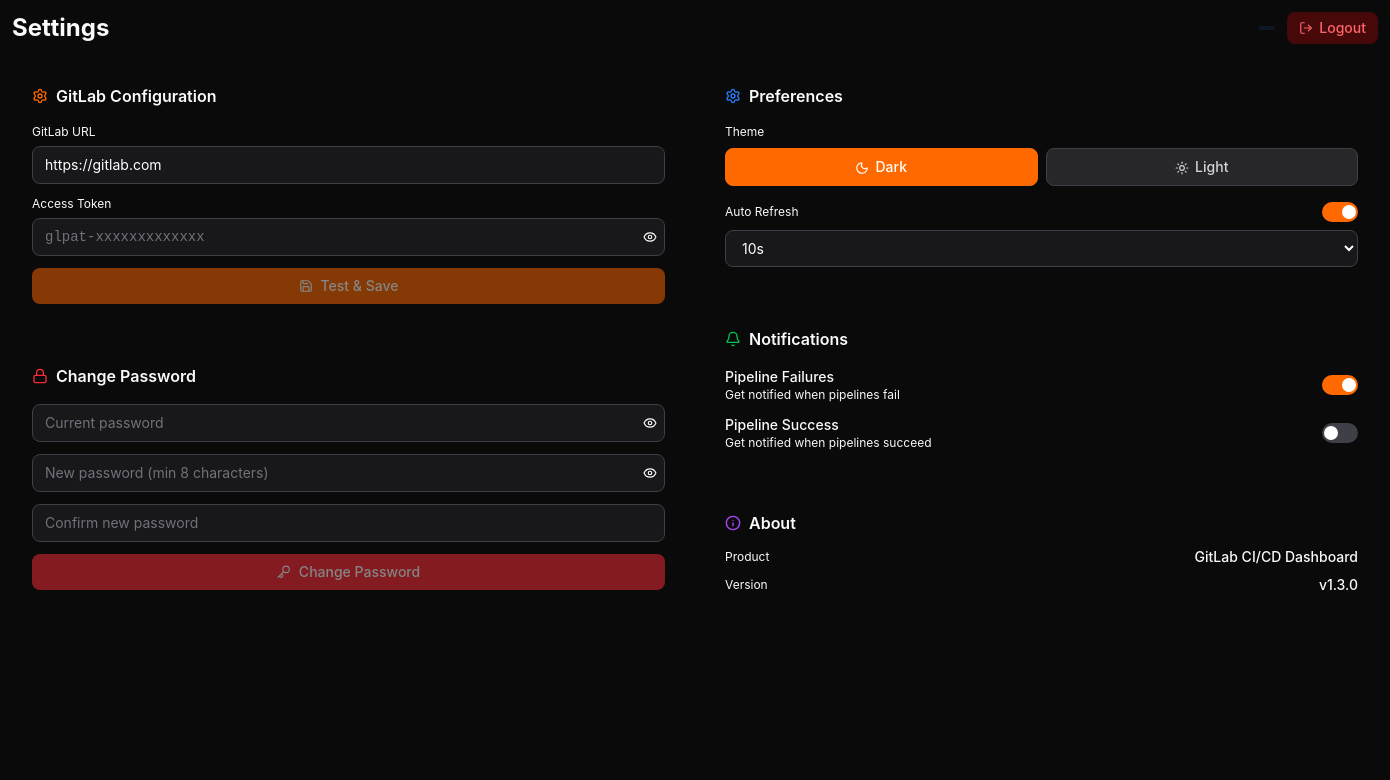
SettingsTab GitLab configuration › requires a token when none is stored
Expected: the button "Test & Save" is disabled, [32,268,665,304]
Type "glpat-new" into the password field labelled "Access Token".
click(348, 237); type("glpat-new")  # box [32,218,665,256]
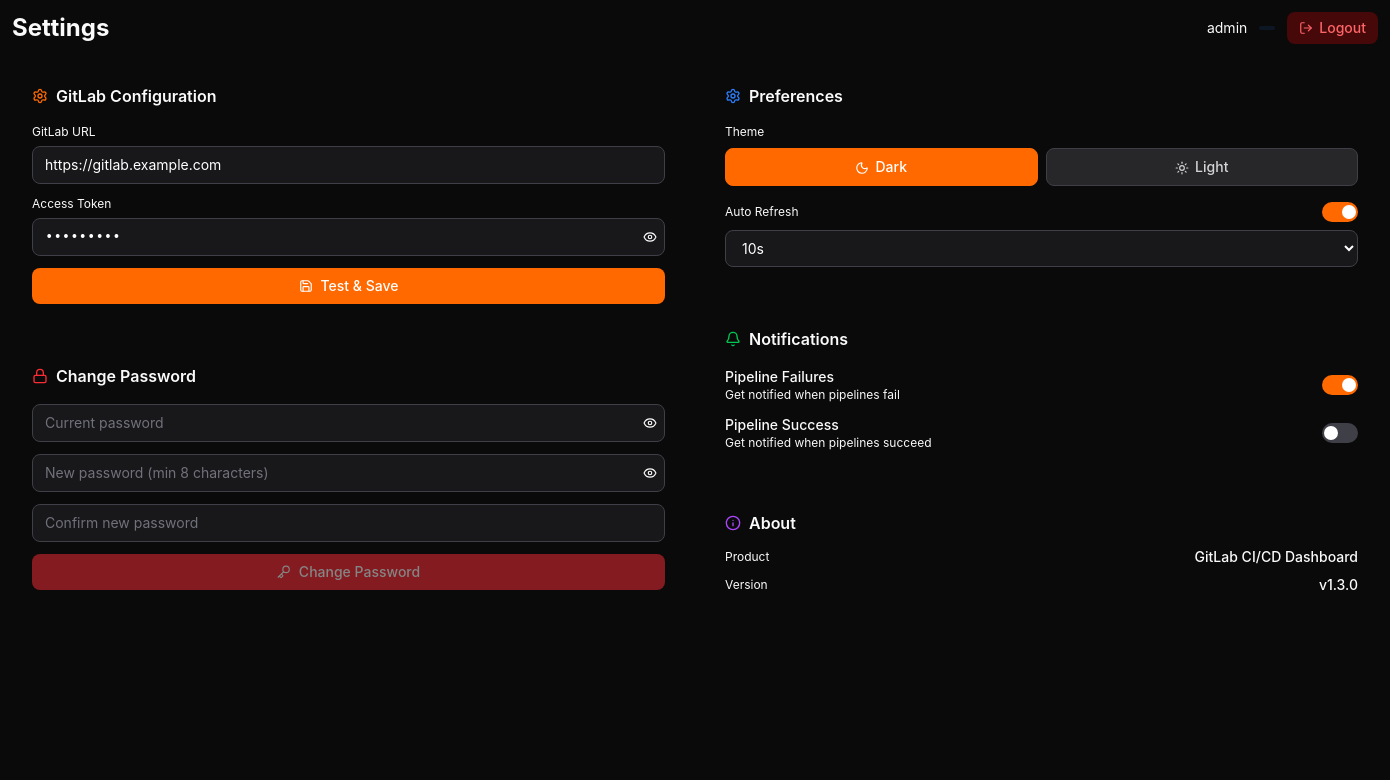
Result: the button "Test & Save" is enabled at [32,268,665,304]
